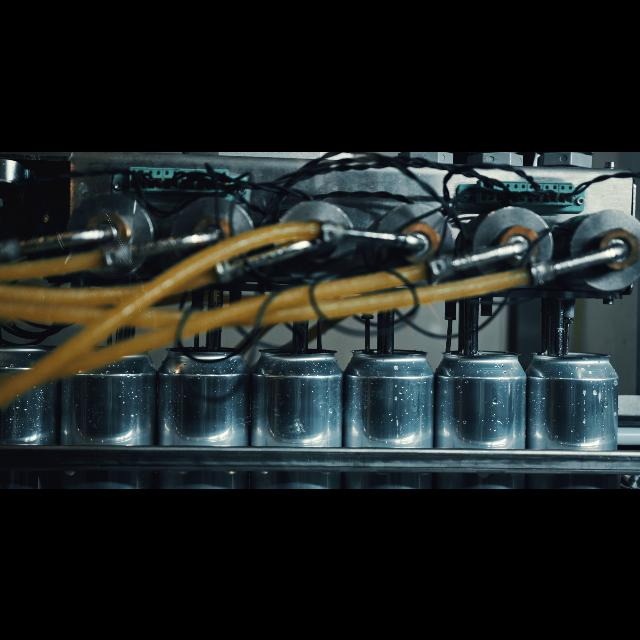empty: (162, 336, 248, 488), (440, 339, 524, 488), (350, 339, 432, 488), (67, 340, 149, 488), (534, 344, 618, 488), (259, 339, 339, 488), (0, 336, 58, 488)
